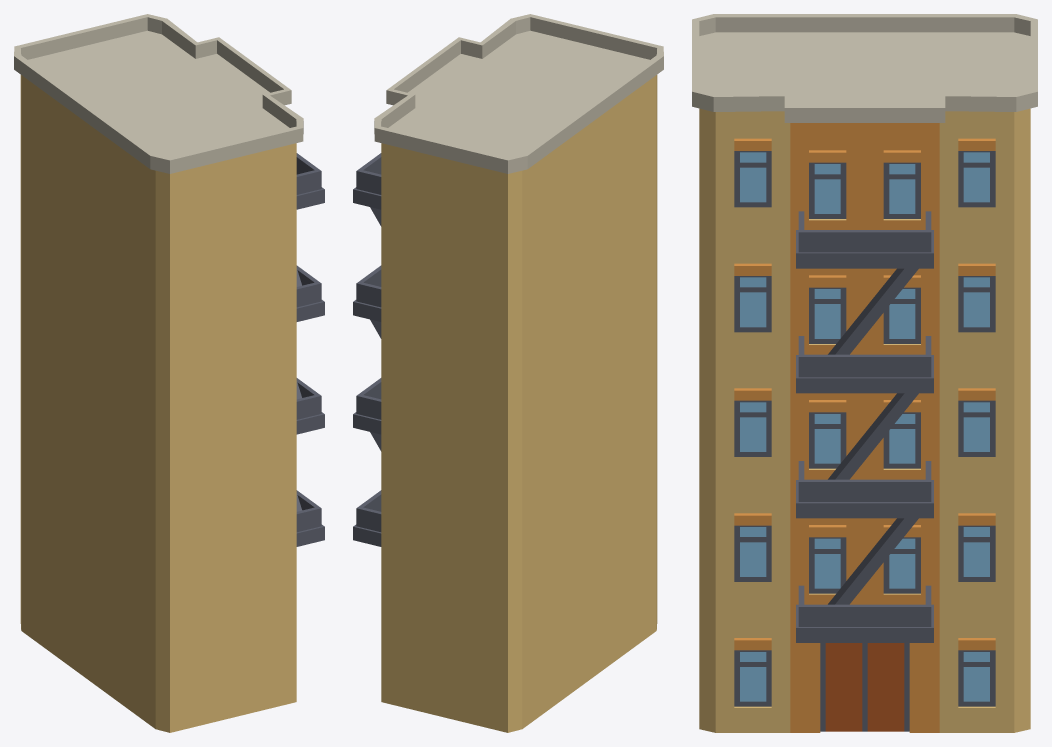
3 views of the same model, side by side, from view 1: azimuth 30°, elevation 25°; view 2: azimuth 150°, elevation 25°; view 3: azimuth 270°, elevation 25° (orthographic). The views are drawn at different scales.
Visible parts, largest first — view 1: Predio 7.002; view 2: Predio 7.002; view 3: Predio 7.002.
Boxes of the visible parts, x1,y1,x2,y2 form: Predio 7.002: [14, 14, 324, 732]; Predio 7.002: [353, 14, 663, 732]; Predio 7.002: [692, 14, 1037, 732].
Size of the model in its own units: 4912 by 12764 by 6258.
